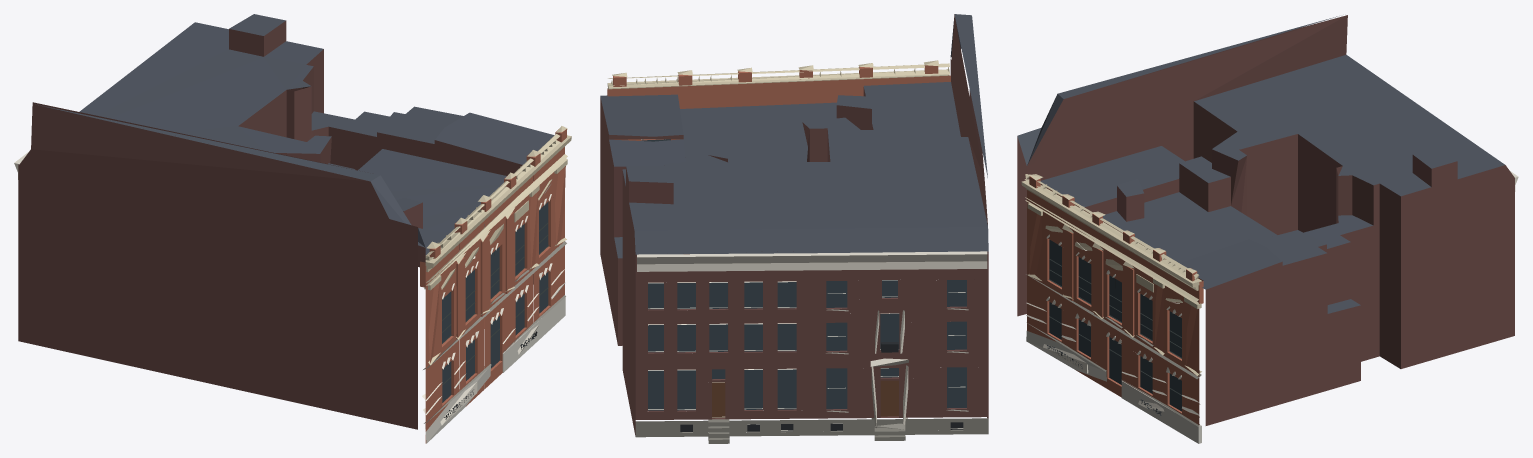
File: universiteitstheater.lod1.glb
3 views of the same model, side by side, from view 1: azimuth 30°, elevation 25°; view 2: azimuth 150°, elevation 25°; view 3: azimuth 270°, elevation 25° (orthographic). The views are drawn at different scales.
Parts seen in each view (by area): view 1: universiteitstheater; view 2: universiteitstheater; view 3: universiteitstheater.
Part boxes in pixels (x1,y1,x2,y2): universiteitstheater: (14, 14, 571, 443); universiteitstheater: (600, 14, 988, 443); universiteitstheater: (1017, 15, 1518, 443).
Size of the model in its own units: 39.49 by 21.35 by 41.56.
